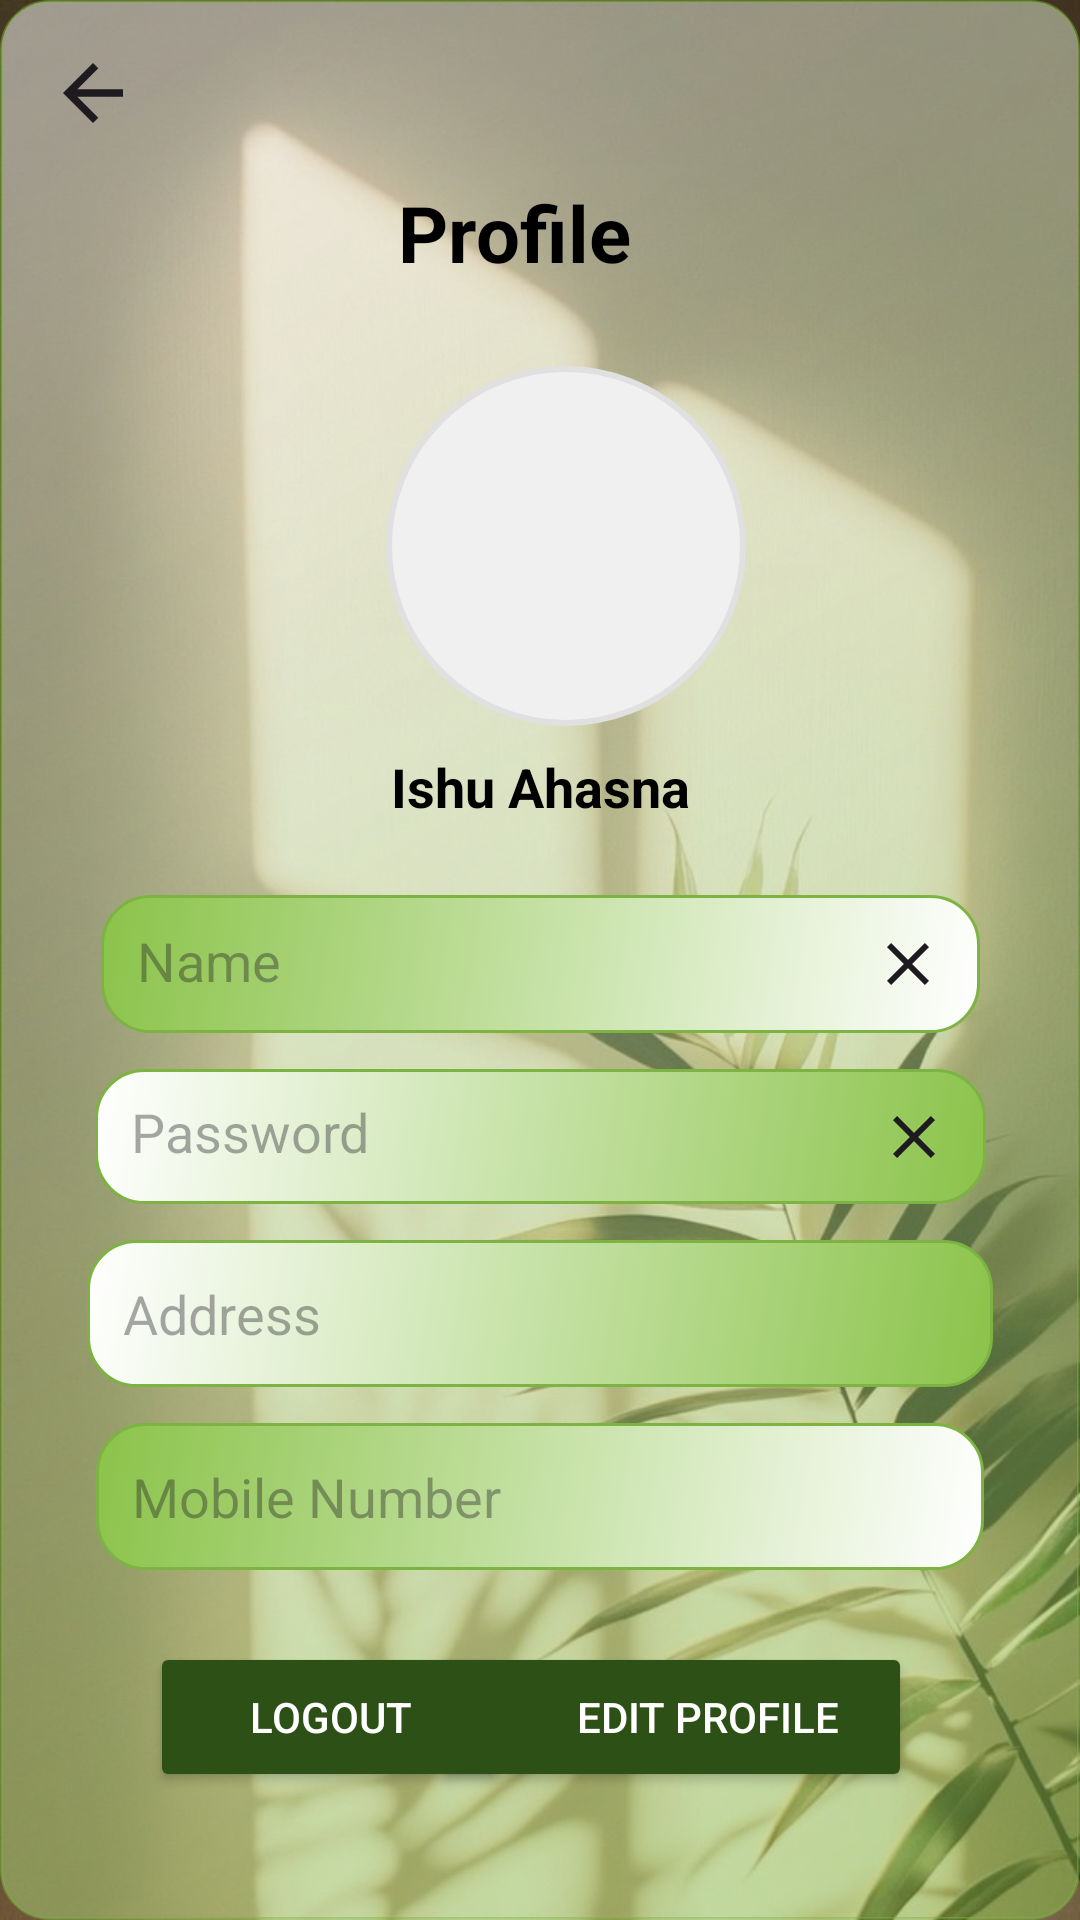

Icons on this 1080px×1920px Android screen, each with its box as (x1, y1, x2, y2):
Back: (63, 63, 123, 123)
